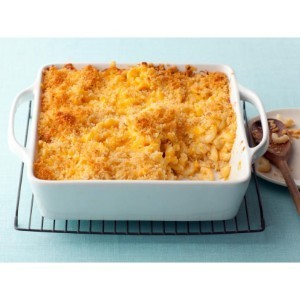cheese_brain food: (75, 90, 194, 163)
